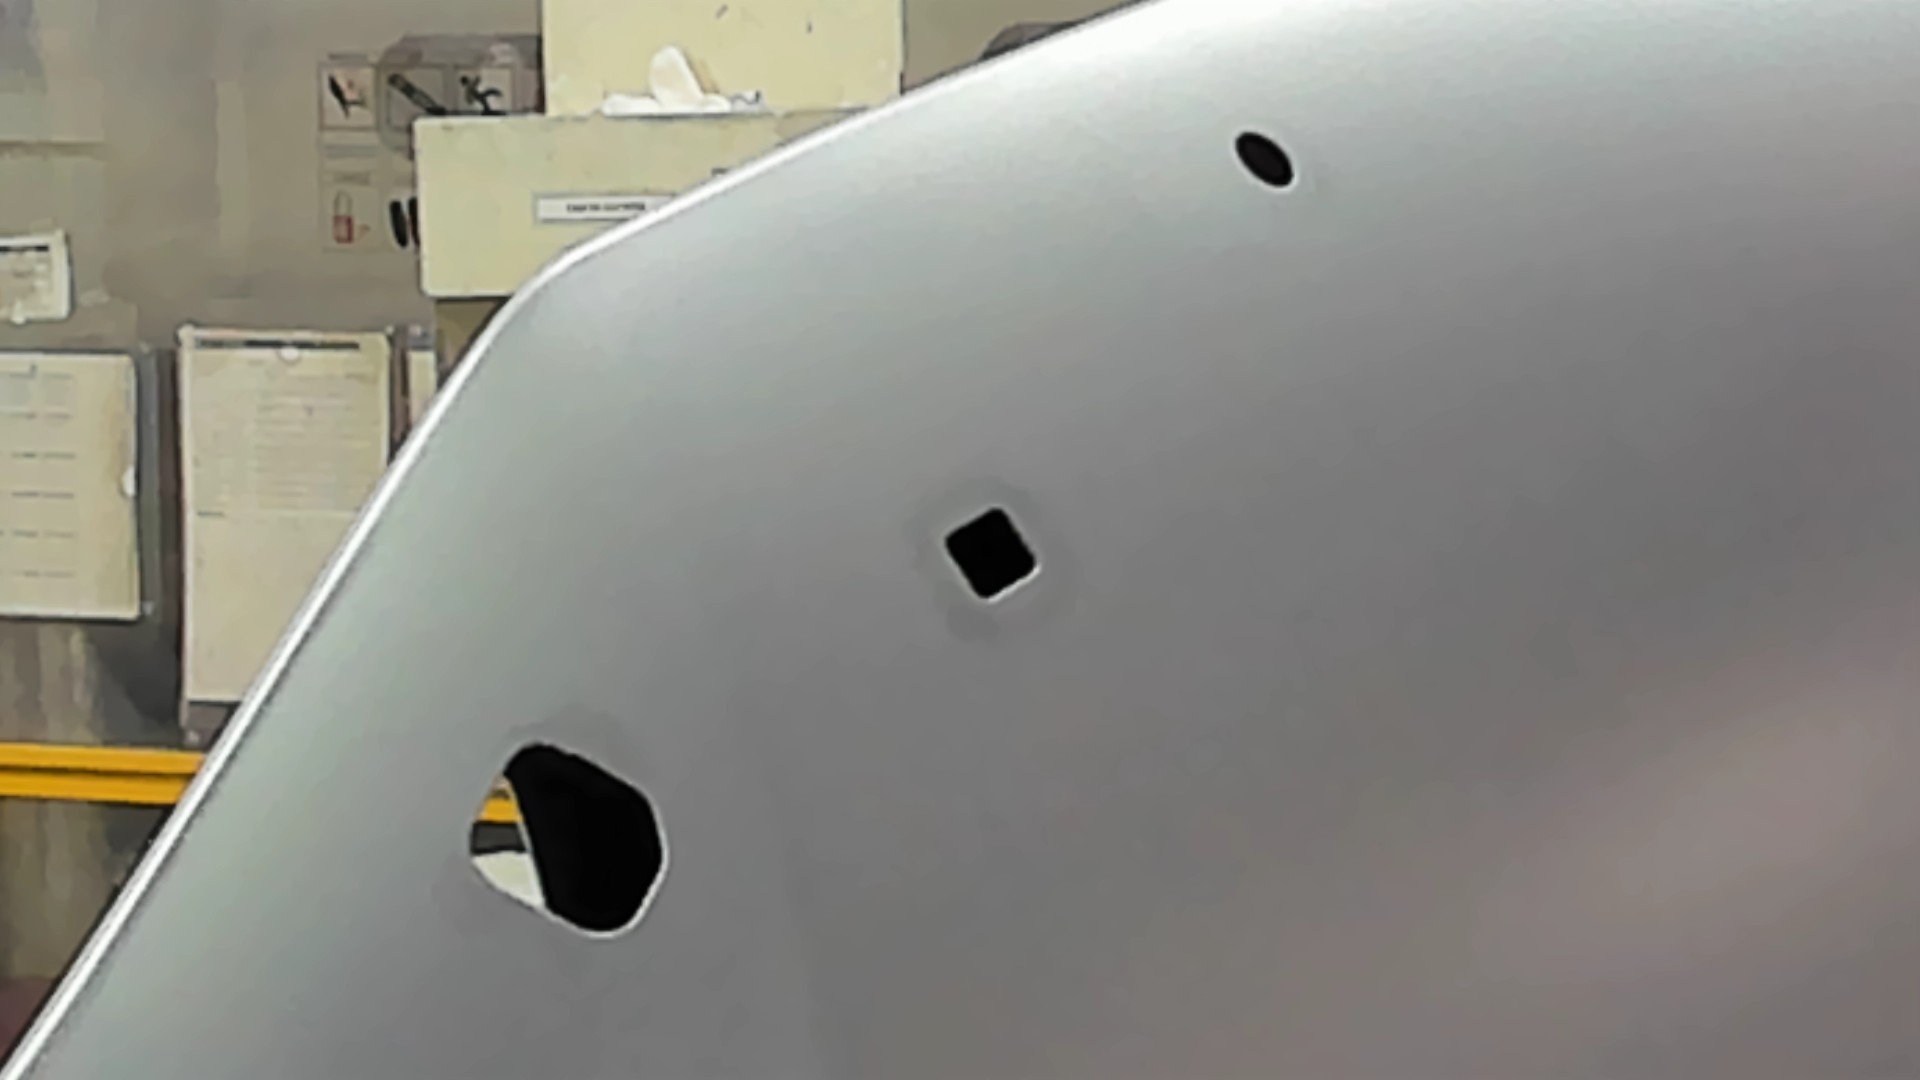chico: (1228, 127, 1300, 190)
grande: (462, 735, 675, 942)
mediano: (938, 500, 1046, 611)
